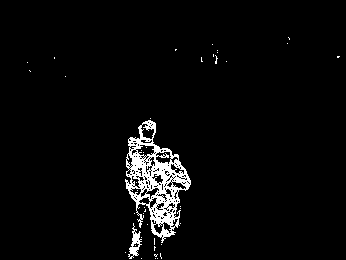person: (122, 116, 162, 260), (147, 145, 193, 260)
